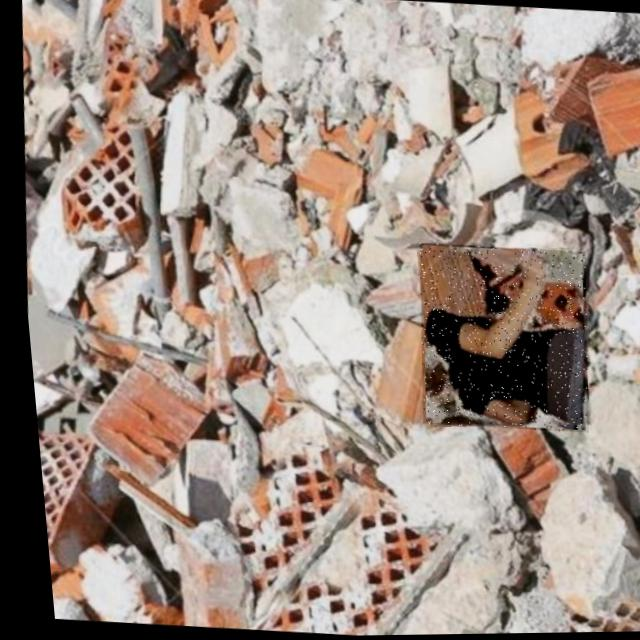Person in Rubble: (402, 240, 593, 435)
